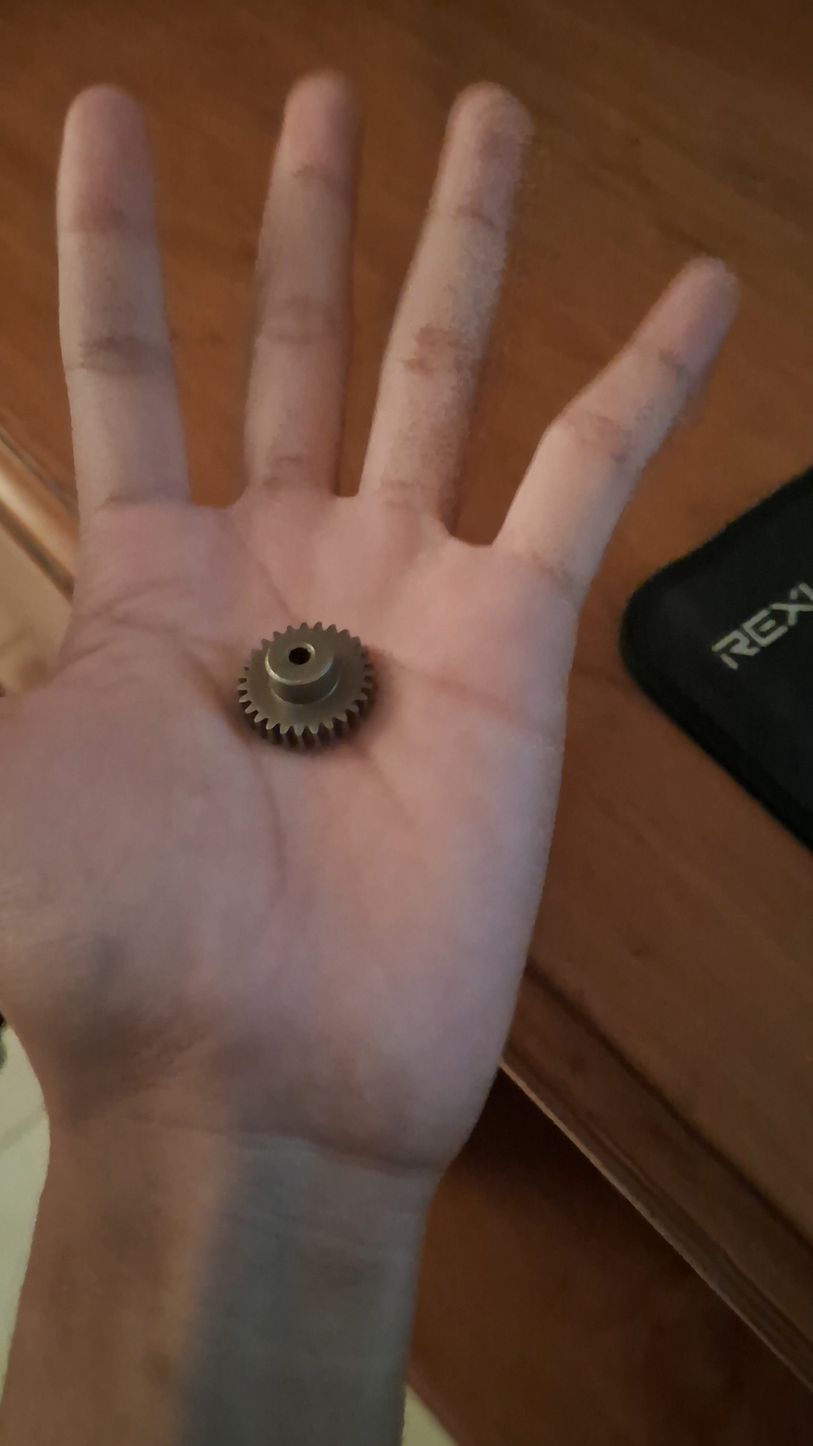spur gear: (238, 624, 375, 749)
